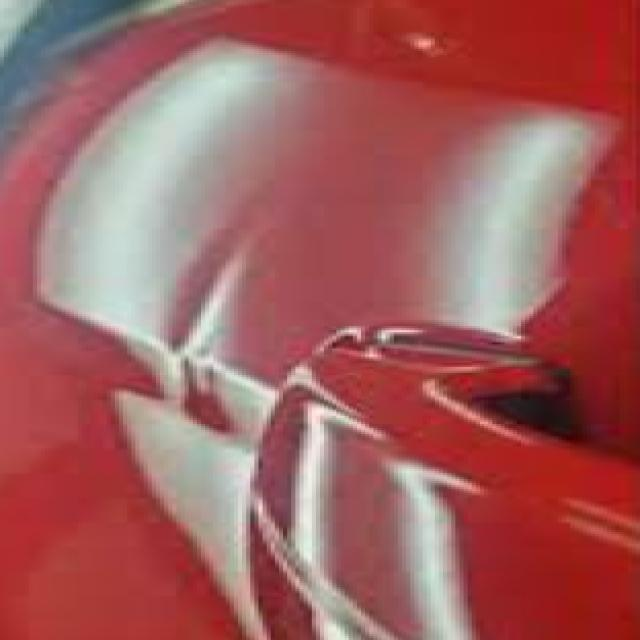dents: (325, 5, 540, 77)
